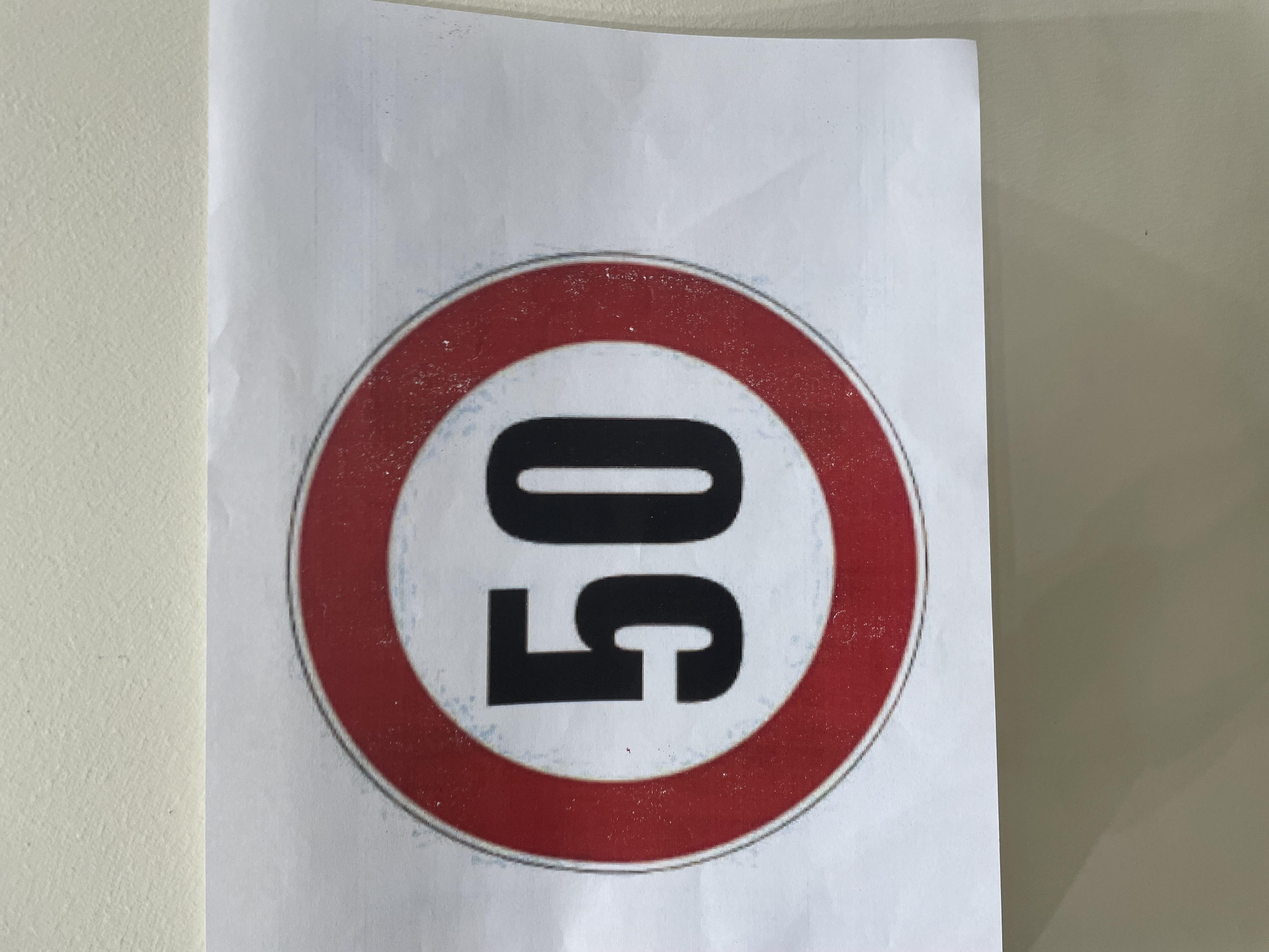50-Speed: (97, 192, 952, 702)
